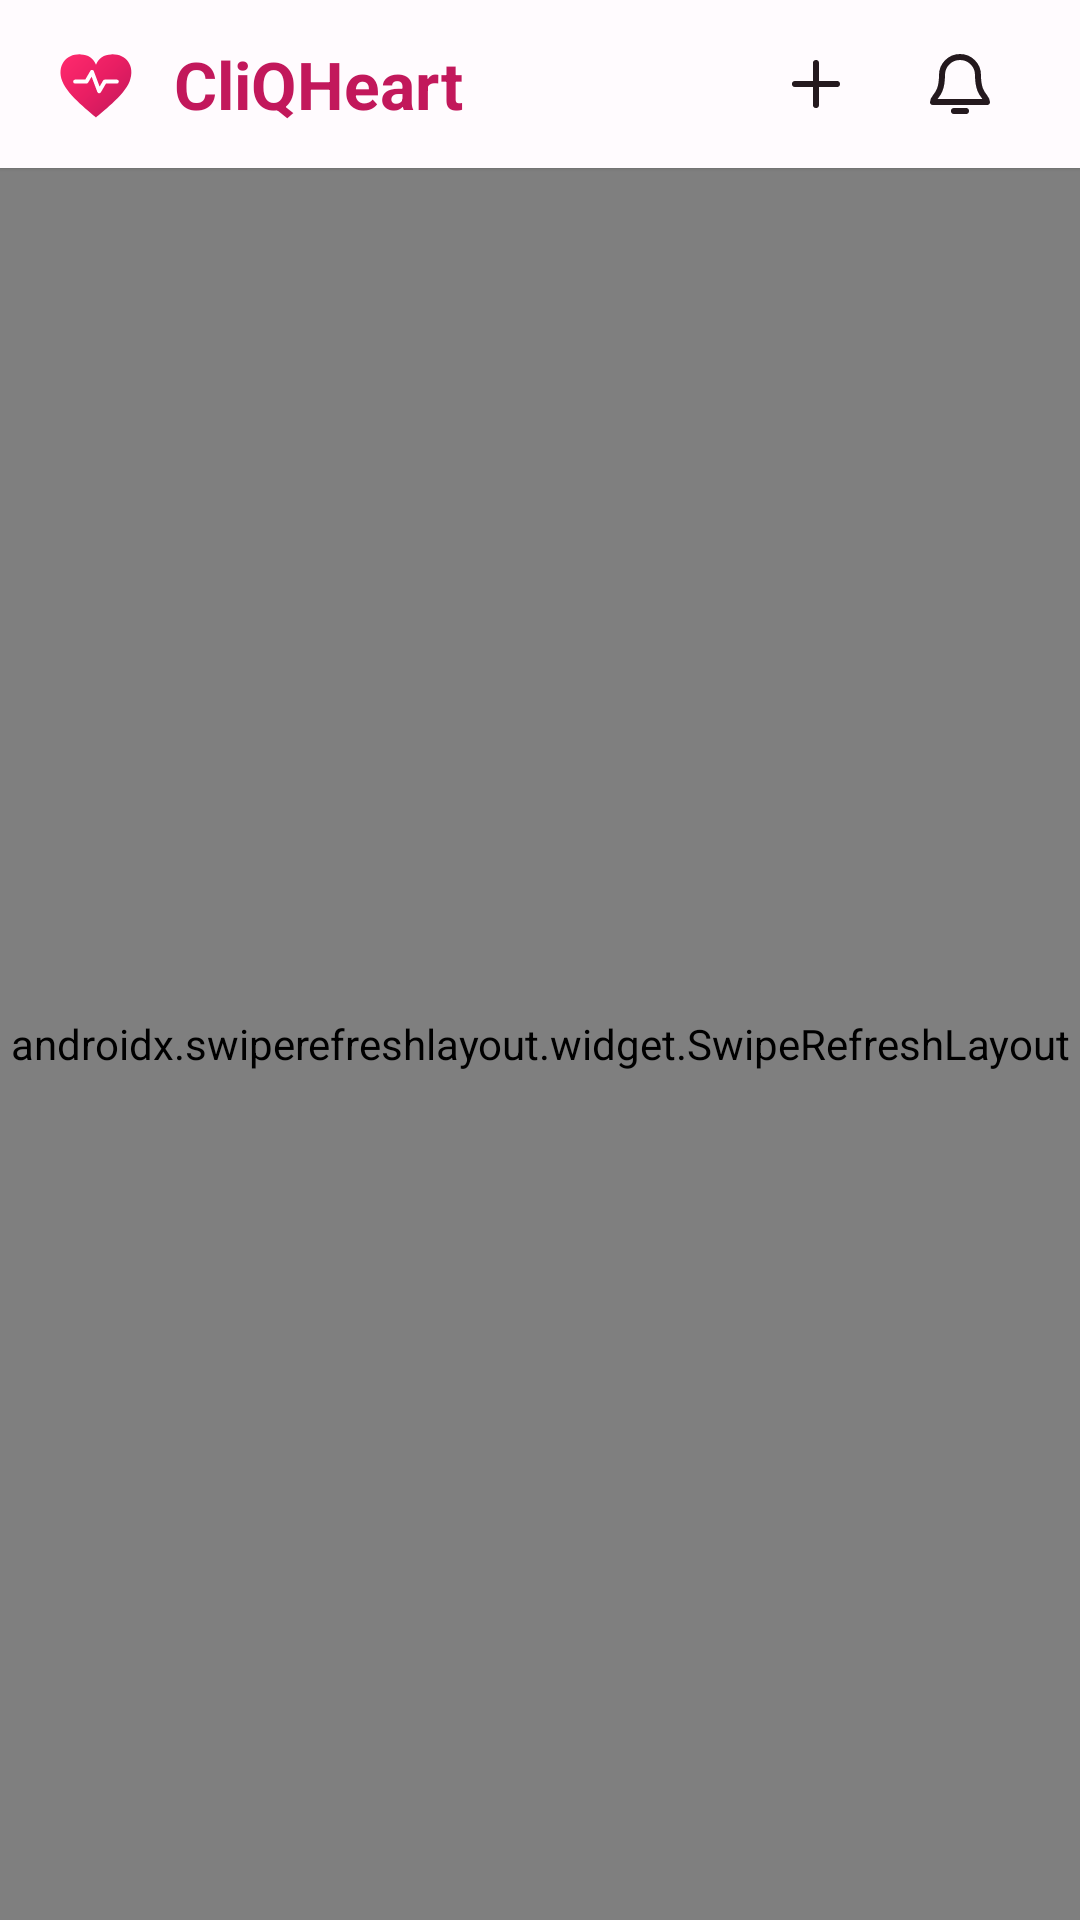

Named icons in this screenshot (1080w x 1920h) and their centers, (x=x, y=y):
Create: (x=816, y=84)
Notifications: (x=960, y=84)
